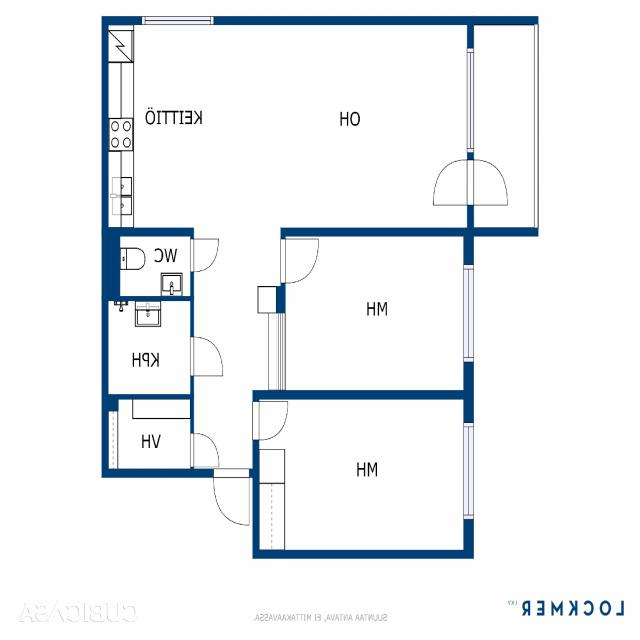door: (213, 468, 250, 524), (433, 160, 473, 204), (467, 160, 507, 204), (281, 238, 319, 282), (252, 401, 288, 440), (190, 337, 222, 375), (190, 433, 220, 466), (190, 238, 219, 272)
